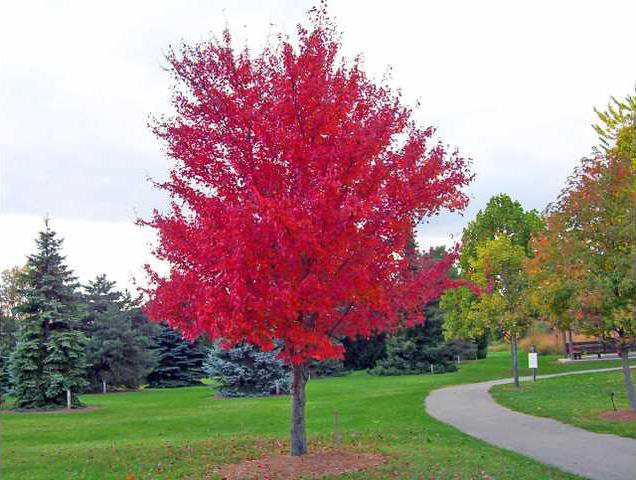tree: (130, 6, 472, 453), (440, 193, 574, 390), (9, 210, 98, 412)
